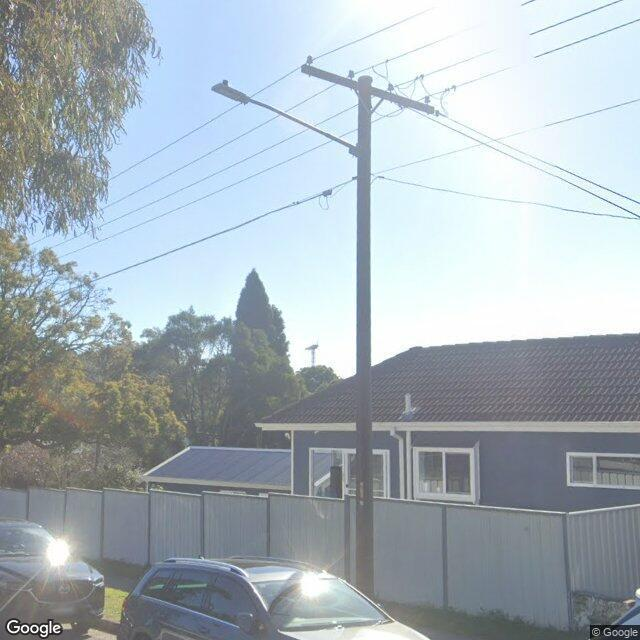crossarm: (300, 63, 436, 115)
streetlight: (212, 79, 357, 157)
timber-pole: (355, 75, 373, 598)
